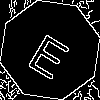E: (25, 25, 77, 81)
